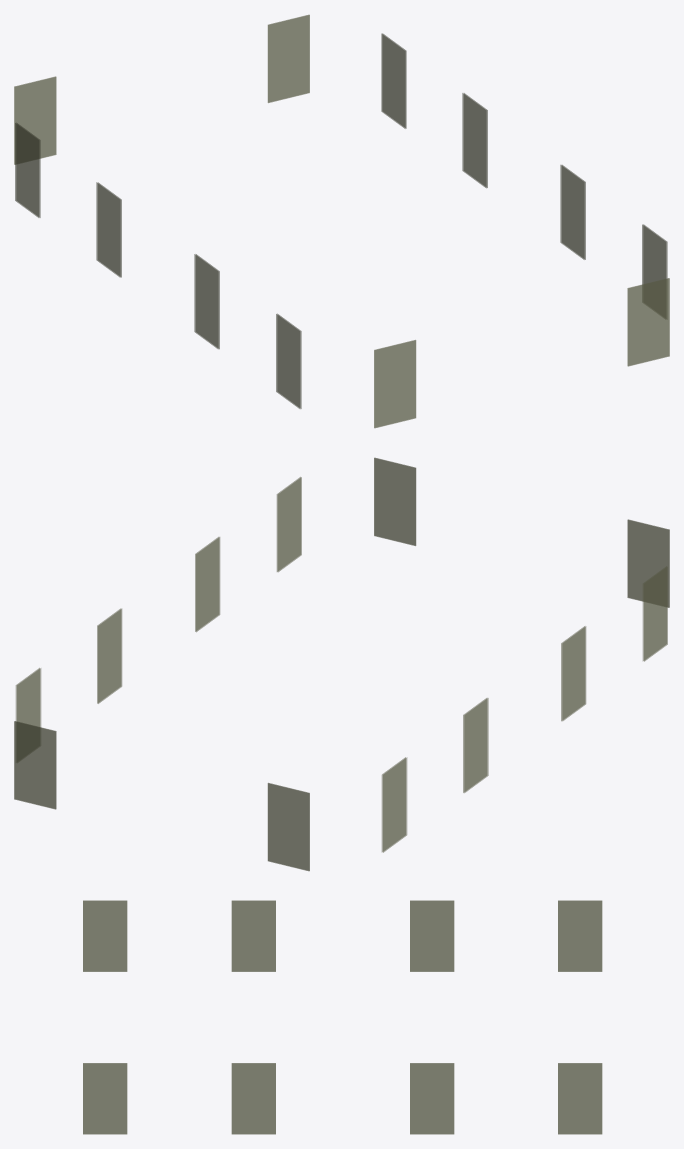
Rendered from SM_Bld_Barracks_Glass_01.fbx.
3 views of the same model, one above another, from view 1: azimuth 30°, elevation 25°; view 2: azimuth 150°, elevation 25°; view 3: azimuth 270°, elevation 25° (orthographic). The views are drawn at different scales.
Parts seen in each view (by area): view 1: SM_Bld_Barracks_Glass_01; view 2: SM_Bld_Barracks_Glass_01; view 3: SM_Bld_Barracks_Glass_01.
Boxes of the visible parts, x1,y1,x2,y2 form: SM_Bld_Barracks_Glass_01: (14, 14, 669, 428); SM_Bld_Barracks_Glass_01: (14, 457, 669, 871); SM_Bld_Barracks_Glass_01: (83, 900, 602, 1134).
Size of the model in its own units: 688 by 140 by 1170.
